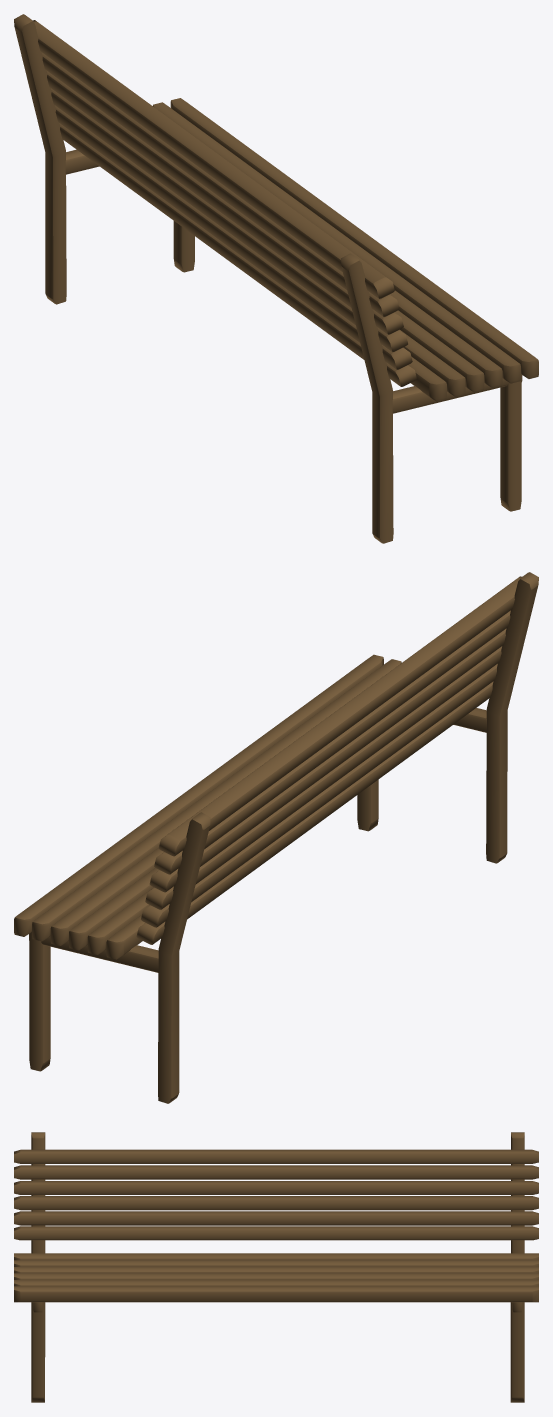
File: bench001.fbx
The picture shows the model from 3 angles, top to bottom: view 1: azimuth 30°, elevation 25°; view 2: azimuth 150°, elevation 25°; view 3: azimuth 270°, elevation 25°; orthographic projection. The views are drawn at different scales.
Visible parts, largest first — view 1: polySurface2; view 2: polySurface2; view 3: polySurface2.
Part boxes in pixels (left/top/right/bottom): polySurface2: left=14, top=14, right=538, bottom=543; polySurface2: left=14, top=572, right=538, bottom=1103; polySurface2: left=14, top=1132, right=538, bottom=1402.
Bounding box in the file's own units: 4.94 × 7.58 × 16.98.
